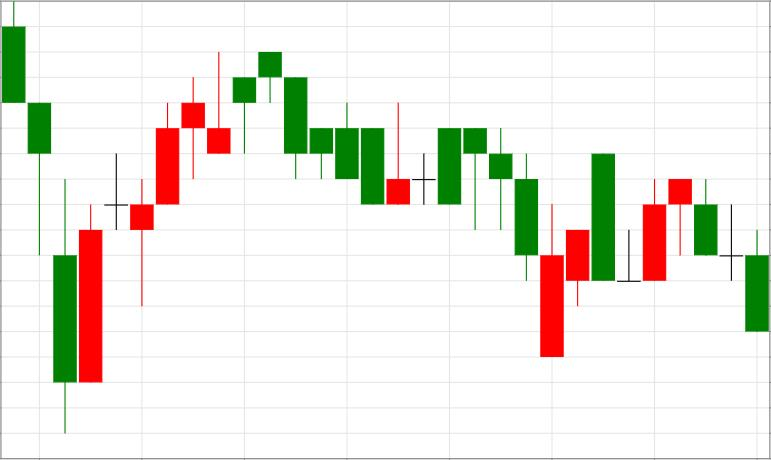evening_star_fall: (540, 153, 717, 358)
inverse_hammer_rise: (259, 52, 410, 204)
